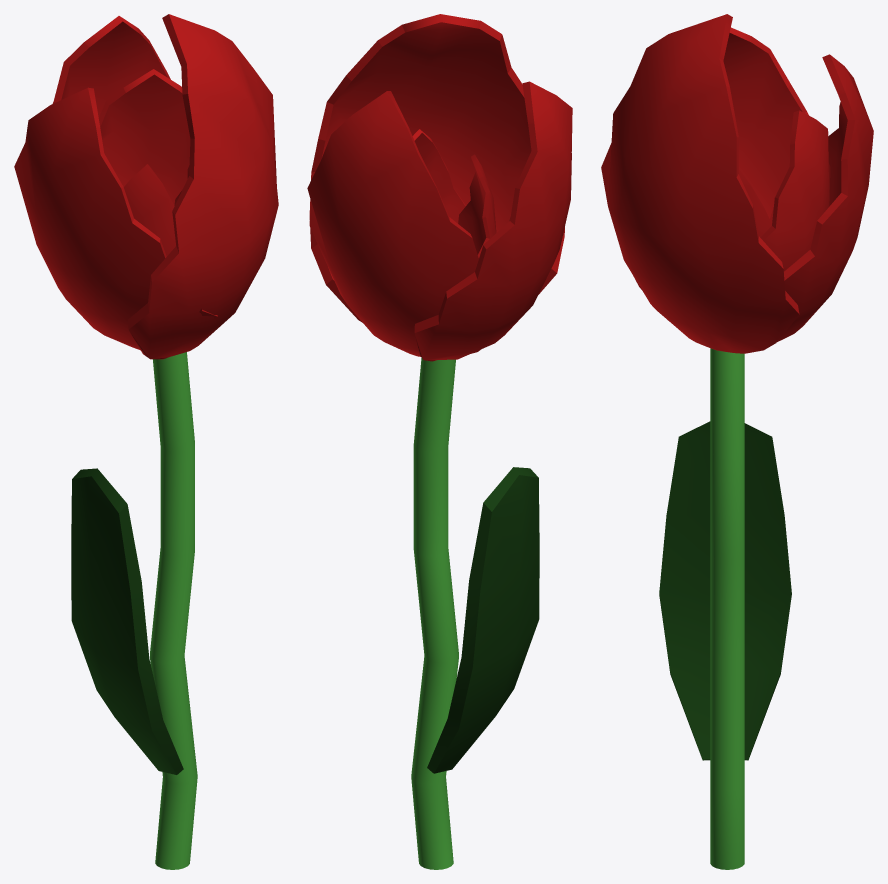
The model's file is flowerv1.fbx.
The picture shows the model from 3 angles, left to right: view 1: azimuth 30°, elevation 25°; view 2: azimuth 150°, elevation 25°; view 3: azimuth 270°, elevation 25°; orthographic projection.
Parts seen in each view (by area): view 1: stem; view 2: stem; view 3: stem.
Part boxes in pixels (<box>): stem: <box>14,14,278,869</box>; stem: <box>307,14,572,869</box>; stem: <box>601,14,873,869</box>.
Size of the model in its own units: 0.3316 by 1.14 by 0.3334.
